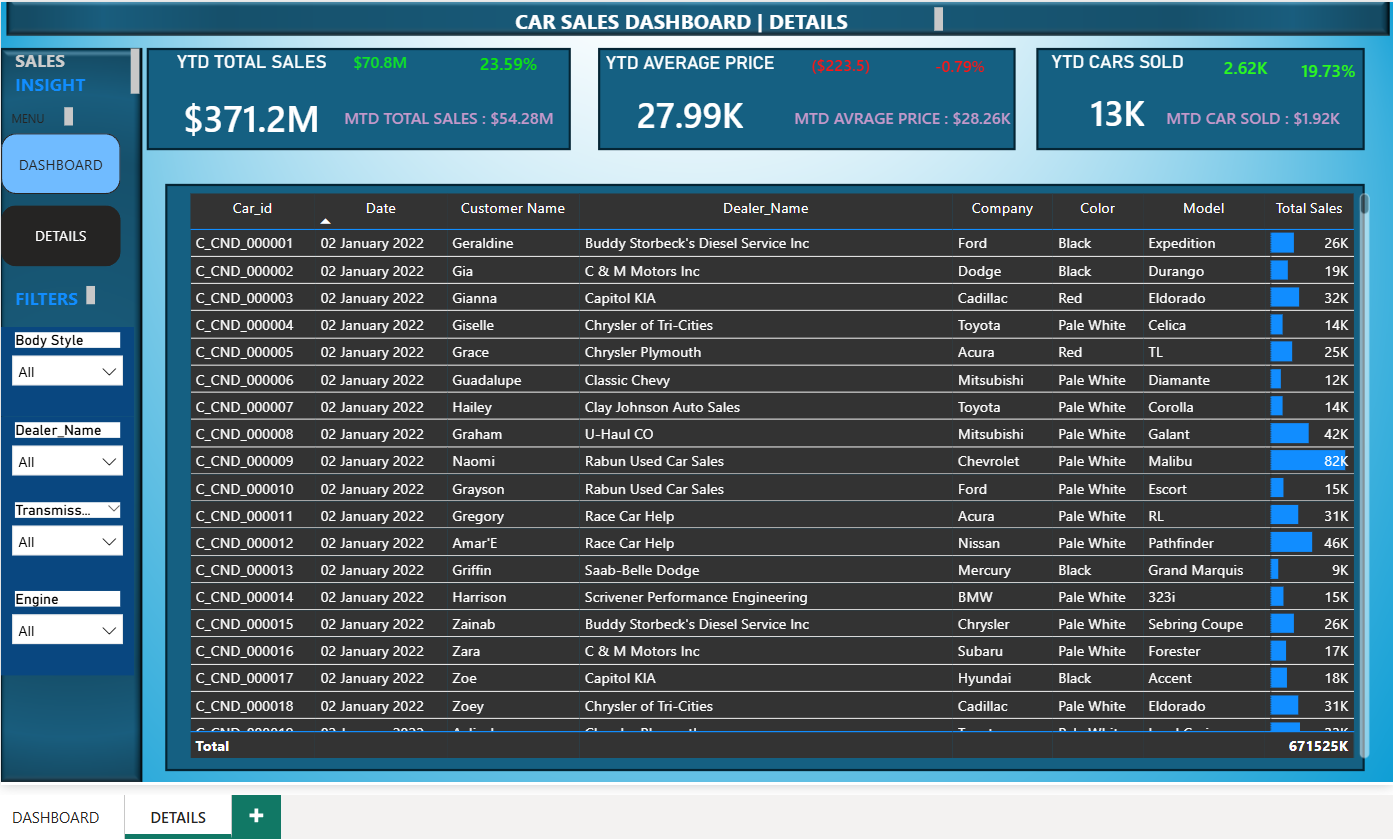

What the dashboard file says about the page in this screenshot:
{"tool":"powerbi","page":{"name":"DETAILS","canvas":[1280,720],"ordinal":1},"visuals":[{"type":"tableEx","fields":{"Values":["car_data.Car_id","car_data.Date","car_data.Customer Name","car_data.Dealer_Name","car_data.Company","car_data.Color","car_data.Model","car_data.Total Sales"]},"box":[167.4,170.9,1095.4,529.1],"z":18000},{"type":"slicer","fields":{"Values":["car_data.Body Style"]},"box":[0,298.8,122.4,82.4],"z":18001},{"type":"slicer","fields":{"Values":["car_data.Dealer_Name"]},"box":[0,381.2,122.4,82.4],"z":18002},{"type":"slicer","fields":{"Values":["car_data.Transmission"]},"box":[0,455.3,122.4,83.5],"z":18003},{"type":"textbox","box":[8.1,255.8,83.7,29.1],"z":18004},{"type":"textbox","box":[4.7,91.9,66.3,26.7],"z":18005},{"type":"pageNavigator","box":[0,120.9,110.5,123.3],"z":18006},{"type":"slicer","fields":{"Values":["car_data.Engine"]},"box":[0,536.5,122.4,82.4],"z":18007},{"type":"textbox","box":[8.1,38.4,124.4,52.3],"z":18008},{"type":"cardVisual","title":"SALES DIFFRENCE","fields":{"Data":["car_data.Sales Diffrence"]},"box":[284.7,27.1,127.1,52.9],"z":18009},{"type":"cardVisual","title":"SALES DIFFRENCE","fields":{"Data":["car_data.YOY Groth Sales"]},"box":[411.8,27.1,112.9,54.1],"z":18010},{"type":"cardVisual","fields":{"Data":["car_data.MTD KPI"]},"box":[282.4,77.6,258.8,54.1],"z":18011},{"type":"cardVisual","title":"SALES DIFFRENCE","fields":{"Data":["car_data.Avrage Price diffrence"]},"box":[716.5,30.6,112.9,52.9],"z":18012},{"type":"cardVisual","title":"SALES DIFFRENCE","fields":{"Data":["car_data.YOY Avrage price"]},"box":[829.4,29.4,112.9,54.1],"z":18013},{"type":"cardVisual","title":"YTD CARS SOLD","fields":{"Data":["car_data.YTD Cars Sold"]},"box":[958.8,44.7,136.5,91.8],"z":18014},{"type":"cardVisual","fields":{"Data":["car_data.MTD Avrage KPI"]},"box":[698.8,77.6,260,55.3],"z":18015},{"type":"cardVisual","title":"SALES DIFFRENCE","fields":{"Data":["car_data.Car sold Diffrence"]},"box":[1095.3,30.6,112.9,54.1],"z":18016},{"type":"cardVisual","title":"SALES DIFFRENCE","fields":{"Data":["car_data.YOY Cars sold"]},"box":[1167.1,32.9,112.9,54.1],"z":18017},{"type":"cardVisual","fields":{"Data":["car_data.MTD car sold KPI"]},"box":[1036.5,77.6,229.4,55.3],"z":18018},{"type":"textbox","box":[468.2,0,403.5,32.9],"z":18019},{"type":"cardVisual","title":"YTD TOTAL SALES","fields":{"Data":["car_data.YTD Total sales"]},"box":[132.9,44.7,194.1,100],"z":18020},{"type":"cardVisual","title":"YTD AVERAGE PRICE","fields":{"Data":["car_data.YTD Average Price"]},"box":[543,46.5,182.6,91.9],"z":18021}]}

Visuals, with their boxes on the page's 1280x720 design canvas (x1, y1, x2, y2). These are canvas units, not pixel positions in the 1393x839 screenshot, which may show the page scaled, cropped or inside an application window:
tableEx - car_data.Car_id x car_data.Date: region(167, 171, 1263, 700)
slicer - car_data.Body Style: region(0, 299, 122, 381)
slicer - car_data.Dealer_Name: region(0, 381, 122, 464)
slicer - car_data.Transmission: region(0, 455, 122, 539)
textbox: region(8, 256, 92, 285)
textbox: region(5, 92, 71, 119)
pageNavigator: region(0, 121, 110, 244)
slicer - car_data.Engine: region(0, 536, 122, 619)
textbox: region(8, 38, 132, 91)
"SALES DIFFRENCE" cardVisual: region(285, 27, 412, 80)
"SALES DIFFRENCE" cardVisual: region(412, 27, 525, 81)
cardVisual - car_data.MTD KPI: region(282, 78, 541, 132)
"SALES DIFFRENCE" cardVisual: region(716, 31, 829, 84)
"SALES DIFFRENCE" cardVisual: region(829, 29, 942, 84)
"YTD CARS SOLD" cardVisual: region(959, 45, 1095, 136)
cardVisual - car_data.MTD Avrage KPI: region(699, 78, 959, 133)
"SALES DIFFRENCE" cardVisual: region(1095, 31, 1208, 85)
"SALES DIFFRENCE" cardVisual: region(1167, 33, 1280, 87)
cardVisual - car_data.MTD car sold KPI: region(1036, 78, 1266, 133)
textbox: region(468, 0, 872, 33)
"YTD TOTAL SALES" cardVisual: region(133, 45, 327, 145)
"YTD AVERAGE PRICE" cardVisual: region(543, 46, 726, 138)
